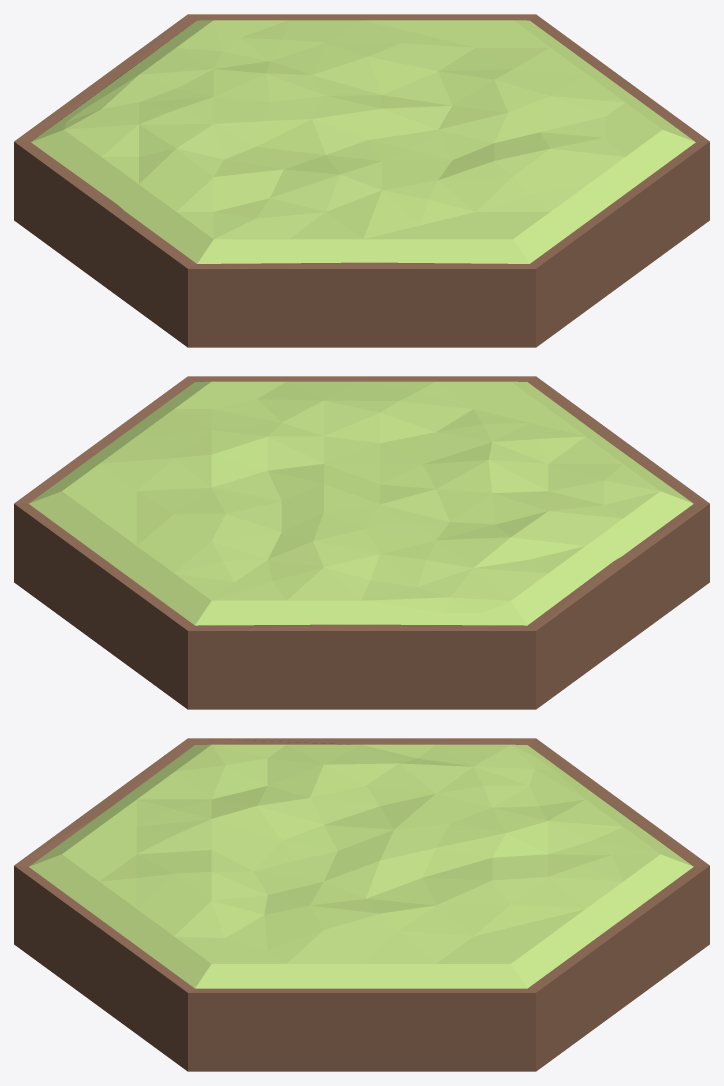
The model's file is lowPolyTiles_hexBase01.fbx.
3 renders of one model, top to bottom at view 1: azimuth 30°, elevation 25°; view 2: azimuth 150°, elevation 25°; view 3: azimuth 270°, elevation 25°, orthographic.
Parts seen in each view (by area): view 1: lowPolyTiles_hexBase01; view 2: lowPolyTiles_hexBase01; view 3: lowPolyTiles_hexBase01.
Part boxes in pixels (box(x1,y1,x2,y2)): lowPolyTiles_hexBase01: box(14, 14, 709, 347); lowPolyTiles_hexBase01: box(14, 376, 709, 709); lowPolyTiles_hexBase01: box(14, 738, 709, 1071).
Size of the model in its own units: 693 by 130 by 800.
